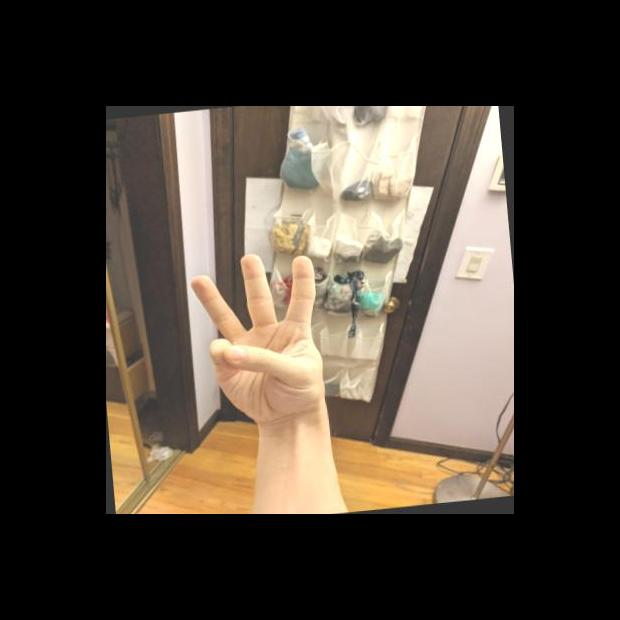V: (187, 245, 335, 431)
